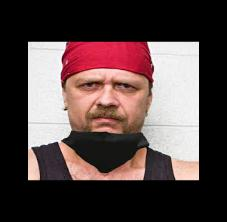mask_weared_incorrect: (69, 79, 147, 146)
